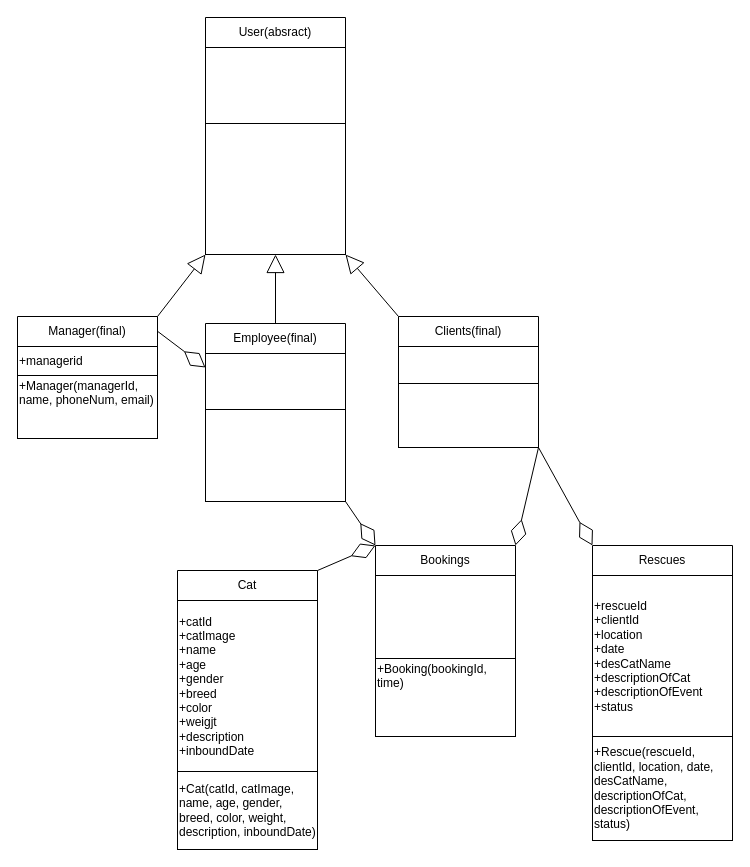
Image size: 750x867. Some labels were removed from this diagram. Each missing label, with the centre of its shape:
"+bookingID +catId +clientId +employeeId +time" belongs at pixel 445 616.
"+client(clientId, email, name. phoneNum, address )" belongs at pixel 468 415.
"+clientid +address" belongs at pixel 468 366.
"+Employee(employeeId, name,jobTitle, phoneNumber,manager, email)" belongs at pixel 275 455.
"+employeeId +j obTitle +manager" belongs at pixel 275 381.
"+User(email, name, phoneNum) +get/setEmail() +get/setName() +get/setPhoneNum" belongs at pixel 275 188.
"-email -name -phoneNum" belongs at pixel 275 85.
